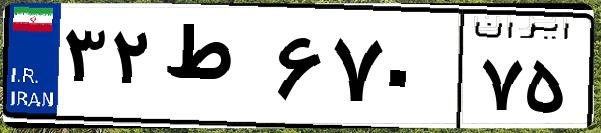0: (385, 28, 445, 110)
2: (110, 28, 158, 98)
3: (57, 26, 110, 100)
5: (525, 38, 570, 115)
6: (270, 28, 330, 110)
7: (330, 28, 385, 110), (475, 38, 525, 113)
ط: (158, 20, 270, 120)
